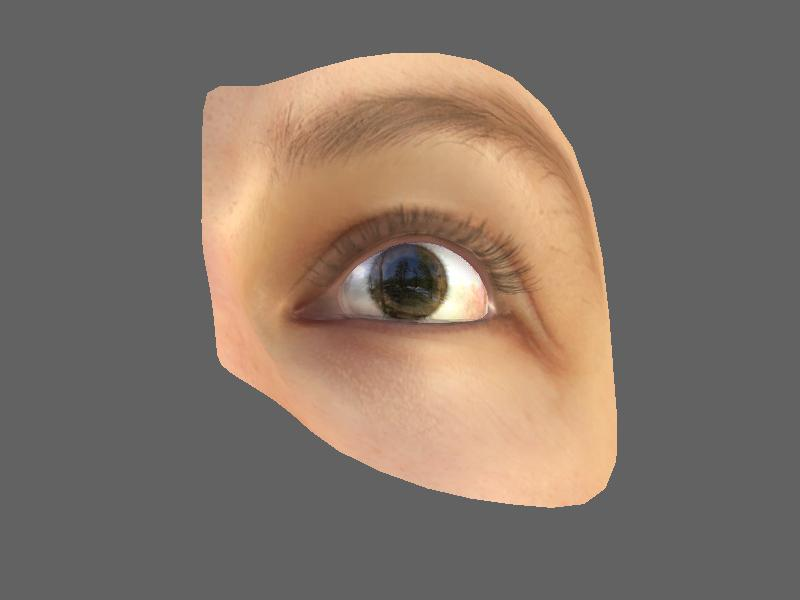iris: (367, 248, 453, 316)
